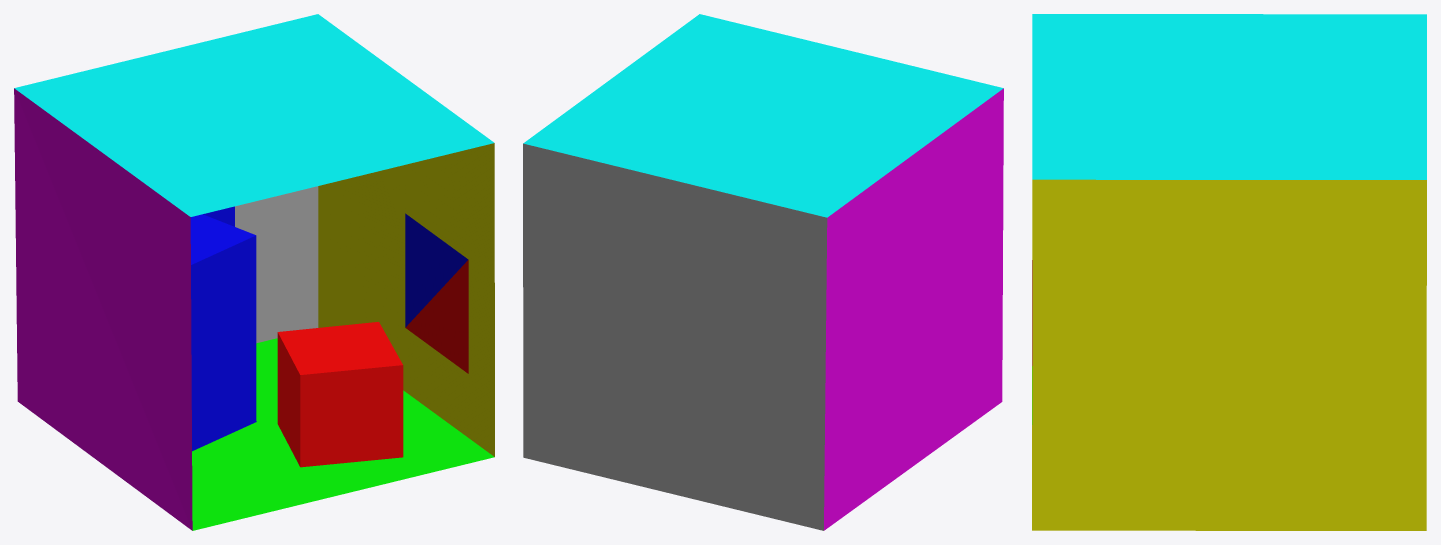
File: cornell-box.obj
3 views of the same model, side by side, from view 1: azimuth 30°, elevation 25°; view 2: azimuth 150°, elevation 25°; view 3: azimuth 270°, elevation 25° (orthographic). The views are drawn at different scales.
Parts seen in each view (by area): view 1: left_wall, ceiling, right_wall, floor, short_box, tall_box, back_wall, r_portal1, r_portal2; view 2: back_wall, left_wall, ceiling; view 3: right_wall, ceiling.
Boxes of the visible parts, x1,y1,x2,y2 form: left_wall: [14, 88, 192, 530]; ceiling: [14, 14, 494, 216]; right_wall: [318, 143, 494, 456]; floor: [192, 338, 494, 530]; short_box: [277, 322, 403, 467]; tall_box: [190, 214, 256, 451]; back_wall: [235, 186, 318, 343]; r_portal1: [405, 260, 468, 373]; r_portal2: [405, 213, 468, 327]; back_wall: [523, 143, 827, 530]; left_wall: [824, 88, 1003, 530]; ceiling: [523, 14, 1003, 217]; right_wall: [1032, 179, 1426, 530]; ceiling: [1032, 14, 1426, 179].
Size of the model in its own units: 5.56 by 5.49 by 5.6.
